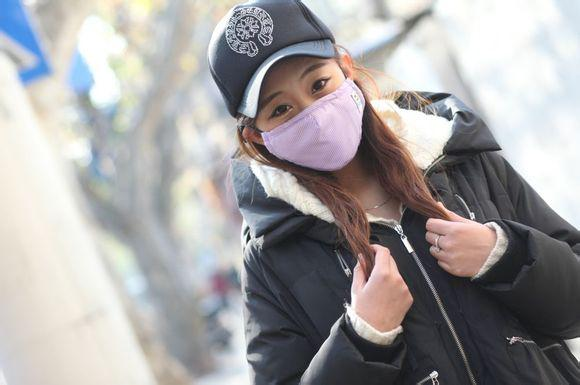OK: (252, 57, 360, 169)
